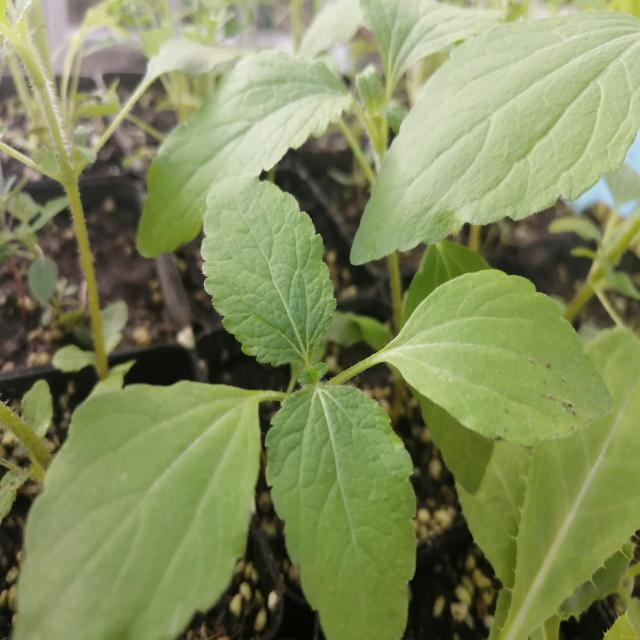billygoat_weed: (62, 177, 548, 632)
